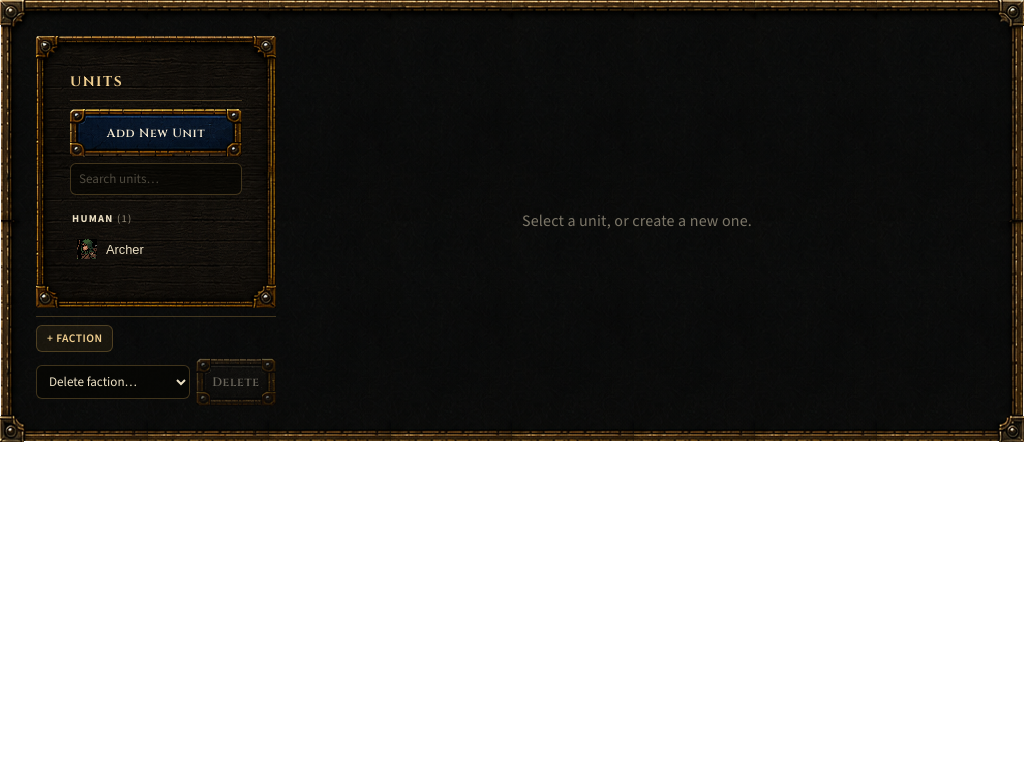
Test: UnitTypeEditorPanel path form — base-unit mode regression › still renders the unit form (Preview/Stats sections), not the path form
Click the button "Archer" at (134, 249), box [70,234,197,264]
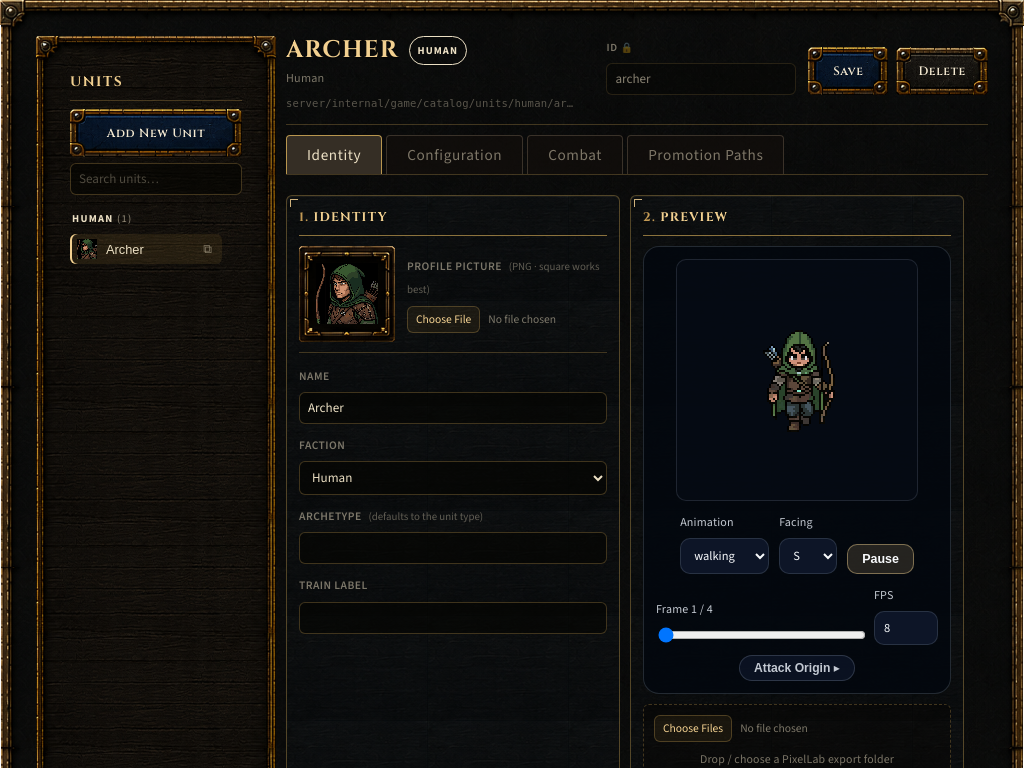
Check: the text "Preview" is shown, box [656,209,728,226]
